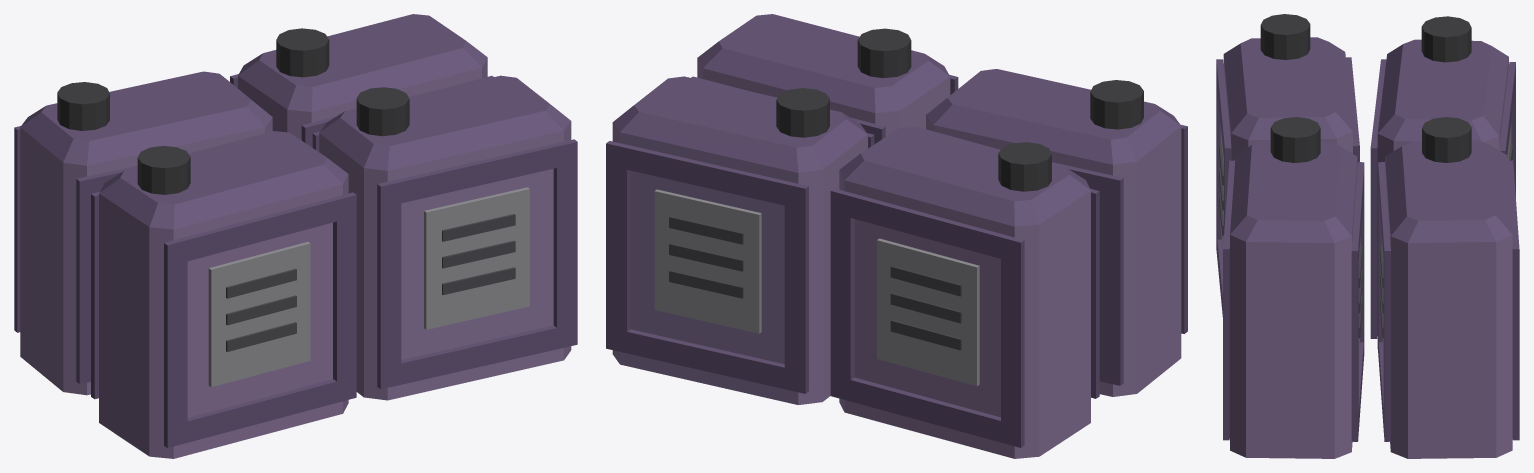
File: vge_item_astrofuel_c.obj
3 renders of one model, left to right at view 1: azimuth 30°, elevation 25°; view 2: azimuth 150°, elevation 25°; view 3: azimuth 270°, elevation 25°, orthographic. The views are drawn at different scales.
Visible parts, largest first — view 1: vge_item_astrofuel_c_0, vge_item_astrofuel_c_19, vge_item_astrofuel_c_38, vge_item_astrofuel_c_20, vge_item_astrofuel_c_1, vge_item_astrofuel_c_39, vge_item_astrofuel_c_58, vge_item_astrofuel_c_25, vge_item_astrofuel_c_6, vge_item_astrofuel_c_21, vge_item_astrofuel_c_22, vge_item_astrofuel_c_2 (+19 smaller); view 2: vge_item_astrofuel_c_38, vge_item_astrofuel_c_57, vge_item_astrofuel_c_0, vge_item_astrofuel_c_58, vge_item_astrofuel_c_39, vge_item_astrofuel_c_1, vge_item_astrofuel_c_20, vge_item_astrofuel_c_71, vge_item_astrofuel_c_52, vge_item_astrofuel_c_10, vge_item_astrofuel_c_67, vge_item_astrofuel_c_68 (+19 smaller); view 3: vge_item_astrofuel_c_57, vge_item_astrofuel_c_19, vge_item_astrofuel_c_58, vge_item_astrofuel_c_20, vge_item_astrofuel_c_1, vge_item_astrofuel_c_39, vge_item_astrofuel_c_56, vge_item_astrofuel_c_37, vge_item_astrofuel_c_18, vge_item_astrofuel_c_75, vge_item_astrofuel_c_68, vge_item_astrofuel_c_30 (+20 smaller).
Part boxes in pixels (bbox=[...]): vge_item_astrofuel_c_0: bbox=[99, 174, 348, 458]; vge_item_astrofuel_c_19: bbox=[319, 121, 571, 400]; vge_item_astrofuel_c_38: bbox=[20, 118, 272, 395]; vge_item_astrofuel_c_20: bbox=[319, 75, 570, 170]; vge_item_astrofuel_c_1: bbox=[99, 131, 348, 229]; vge_item_astrofuel_c_39: bbox=[20, 71, 272, 165]; vge_item_astrofuel_c_58: bbox=[238, 14, 487, 111]; vge_item_astrofuel_c_25: bbox=[424, 187, 529, 329]; vge_item_astrofuel_c_6: bbox=[208, 242, 310, 387]; vge_item_astrofuel_c_21: bbox=[377, 179, 401, 389]; vge_item_astrofuel_c_22: bbox=[553, 139, 577, 349]; vge_item_astrofuel_c_2: bbox=[164, 237, 187, 447]; vge_item_astrofuel_c_38: bbox=[839, 170, 1090, 458]; vge_item_astrofuel_c_57: bbox=[612, 122, 867, 404]; vge_item_astrofuel_c_0: bbox=[926, 115, 1181, 396]; vge_item_astrofuel_c_58: bbox=[613, 76, 867, 172]; vge_item_astrofuel_c_39: bbox=[839, 126, 1090, 226]; vge_item_astrofuel_c_1: bbox=[926, 69, 1180, 164]; vge_item_astrofuel_c_20: bbox=[697, 14, 949, 113]; vge_item_astrofuel_c_71: bbox=[654, 189, 761, 333]; vge_item_astrofuel_c_52: bbox=[877, 238, 979, 385]; vge_item_astrofuel_c_10: bbox=[1099, 173, 1123, 385]; vge_item_astrofuel_c_67: bbox=[784, 181, 808, 393]; vge_item_astrofuel_c_68: bbox=[606, 141, 630, 353]; vge_item_astrofuel_c_57: bbox=[1385, 157, 1512, 458]; vge_item_astrofuel_c_19: bbox=[1230, 161, 1357, 458]; vge_item_astrofuel_c_58: bbox=[1385, 140, 1512, 242]; vge_item_astrofuel_c_20: bbox=[1230, 140, 1357, 242]; vge_item_astrofuel_c_1: bbox=[1223, 37, 1352, 140]; vge_item_astrofuel_c_39: bbox=[1377, 39, 1508, 141]; vge_item_astrofuel_c_56: bbox=[1421, 16, 1471, 62]; vge_item_astrofuel_c_37: bbox=[1270, 117, 1320, 162]; vge_item_astrofuel_c_18: bbox=[1260, 14, 1310, 59]; vge_item_astrofuel_c_75: bbox=[1422, 117, 1471, 162]; vge_item_astrofuel_c_68: bbox=[1512, 240, 1519, 440]; vge_item_astrofuel_c_30: bbox=[1351, 241, 1358, 441].
Bounding box in the file's own units: 0.8453 × 0.51 × 0.5471.
